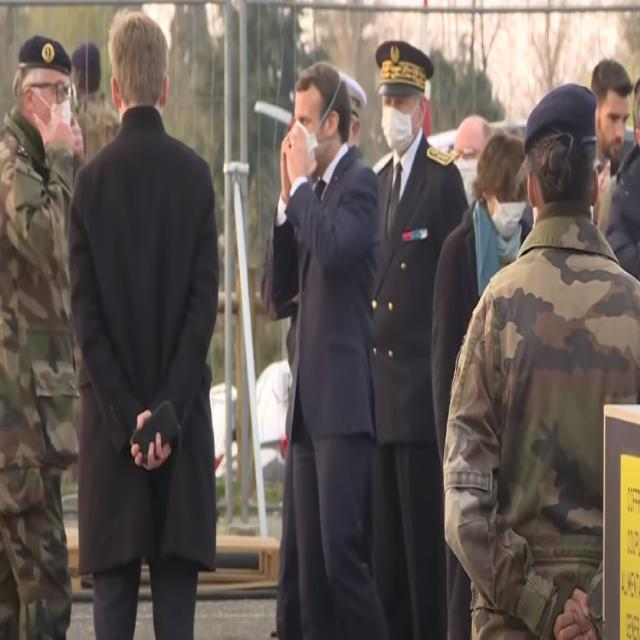hat: (376, 40, 428, 100), (17, 37, 70, 91)
